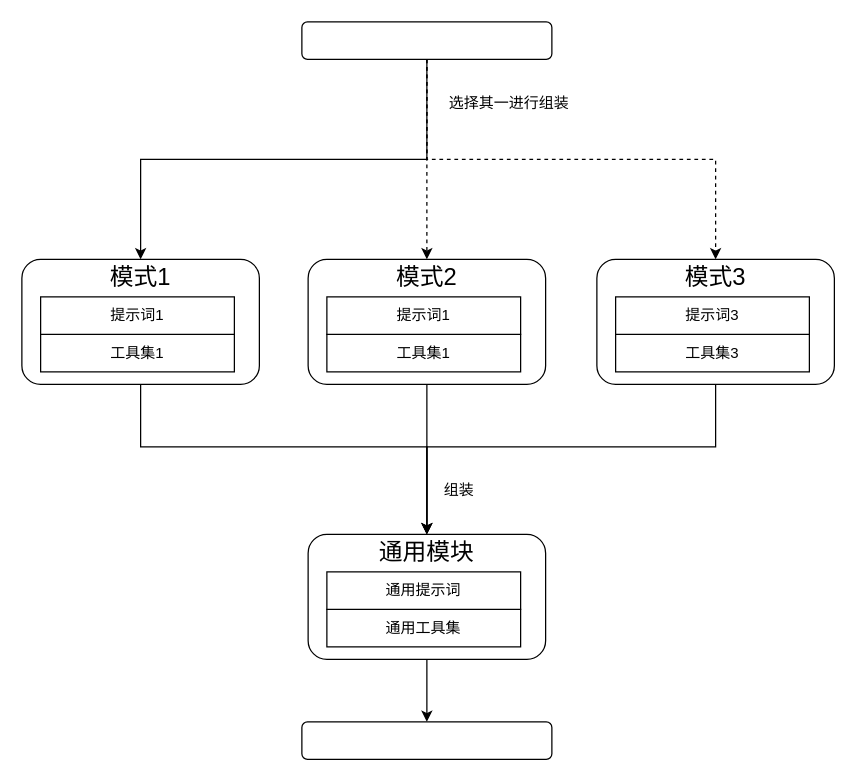
Some shapes in this 856 by 781 pixel diagram are drawn without their labels. The box of each missing label's shape, as (x1, y1, x2, y2) in pixels:
ReAct节点: (301, 721, 552, 759)
裸ReAct节点: (301, 21, 552, 59)
